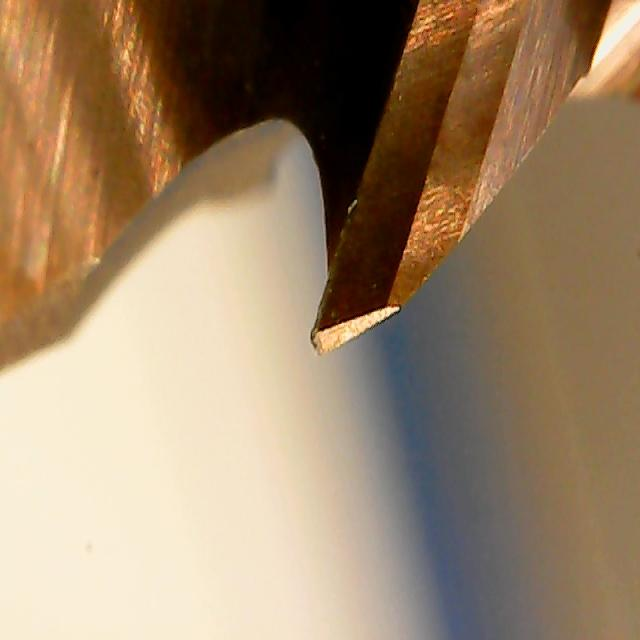Tool-wear-class-1: (292, 116, 449, 374)
